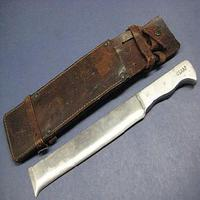knife: (28, 60, 194, 198)
